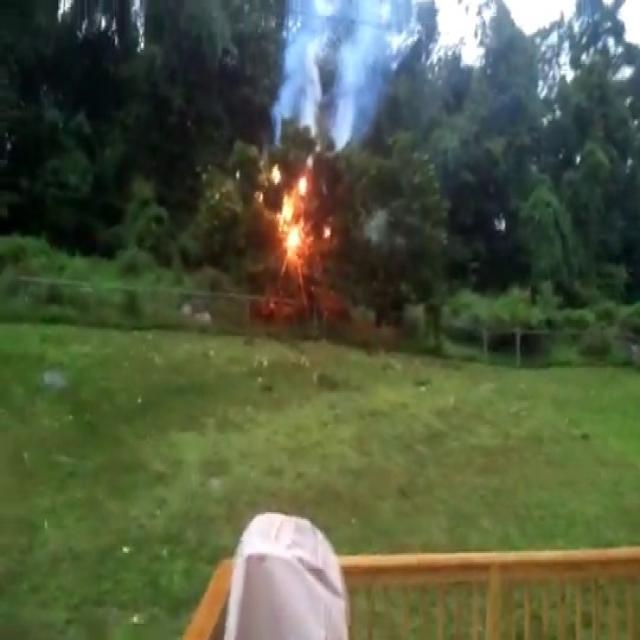Fire: (270, 160, 312, 263)
Smoke: (268, 0, 400, 151)
